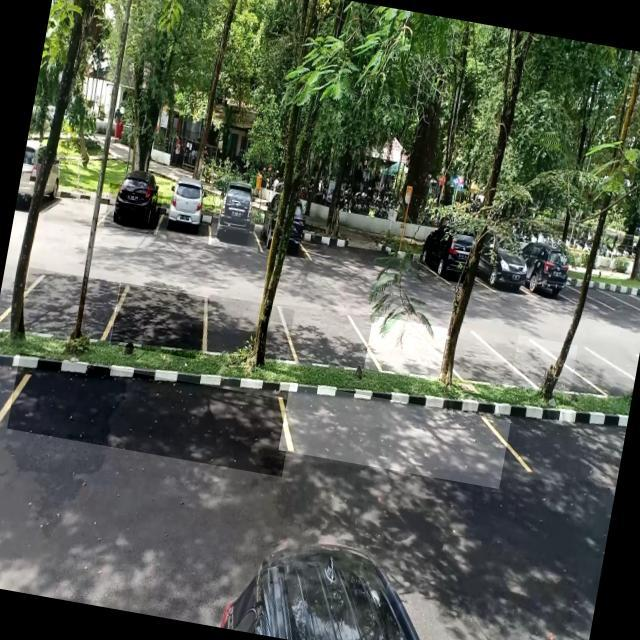empty: (7, 352, 294, 477), (278, 382, 511, 488), (18, 266, 120, 348), (110, 282, 210, 359), (200, 294, 294, 368), (284, 306, 372, 379), (364, 315, 450, 382), (448, 326, 520, 391), (510, 335, 578, 394), (44, 178, 110, 232)
occupied: (476, 236, 536, 300), (208, 191, 266, 253), (416, 228, 474, 290), (156, 188, 216, 242), (102, 182, 163, 235)
